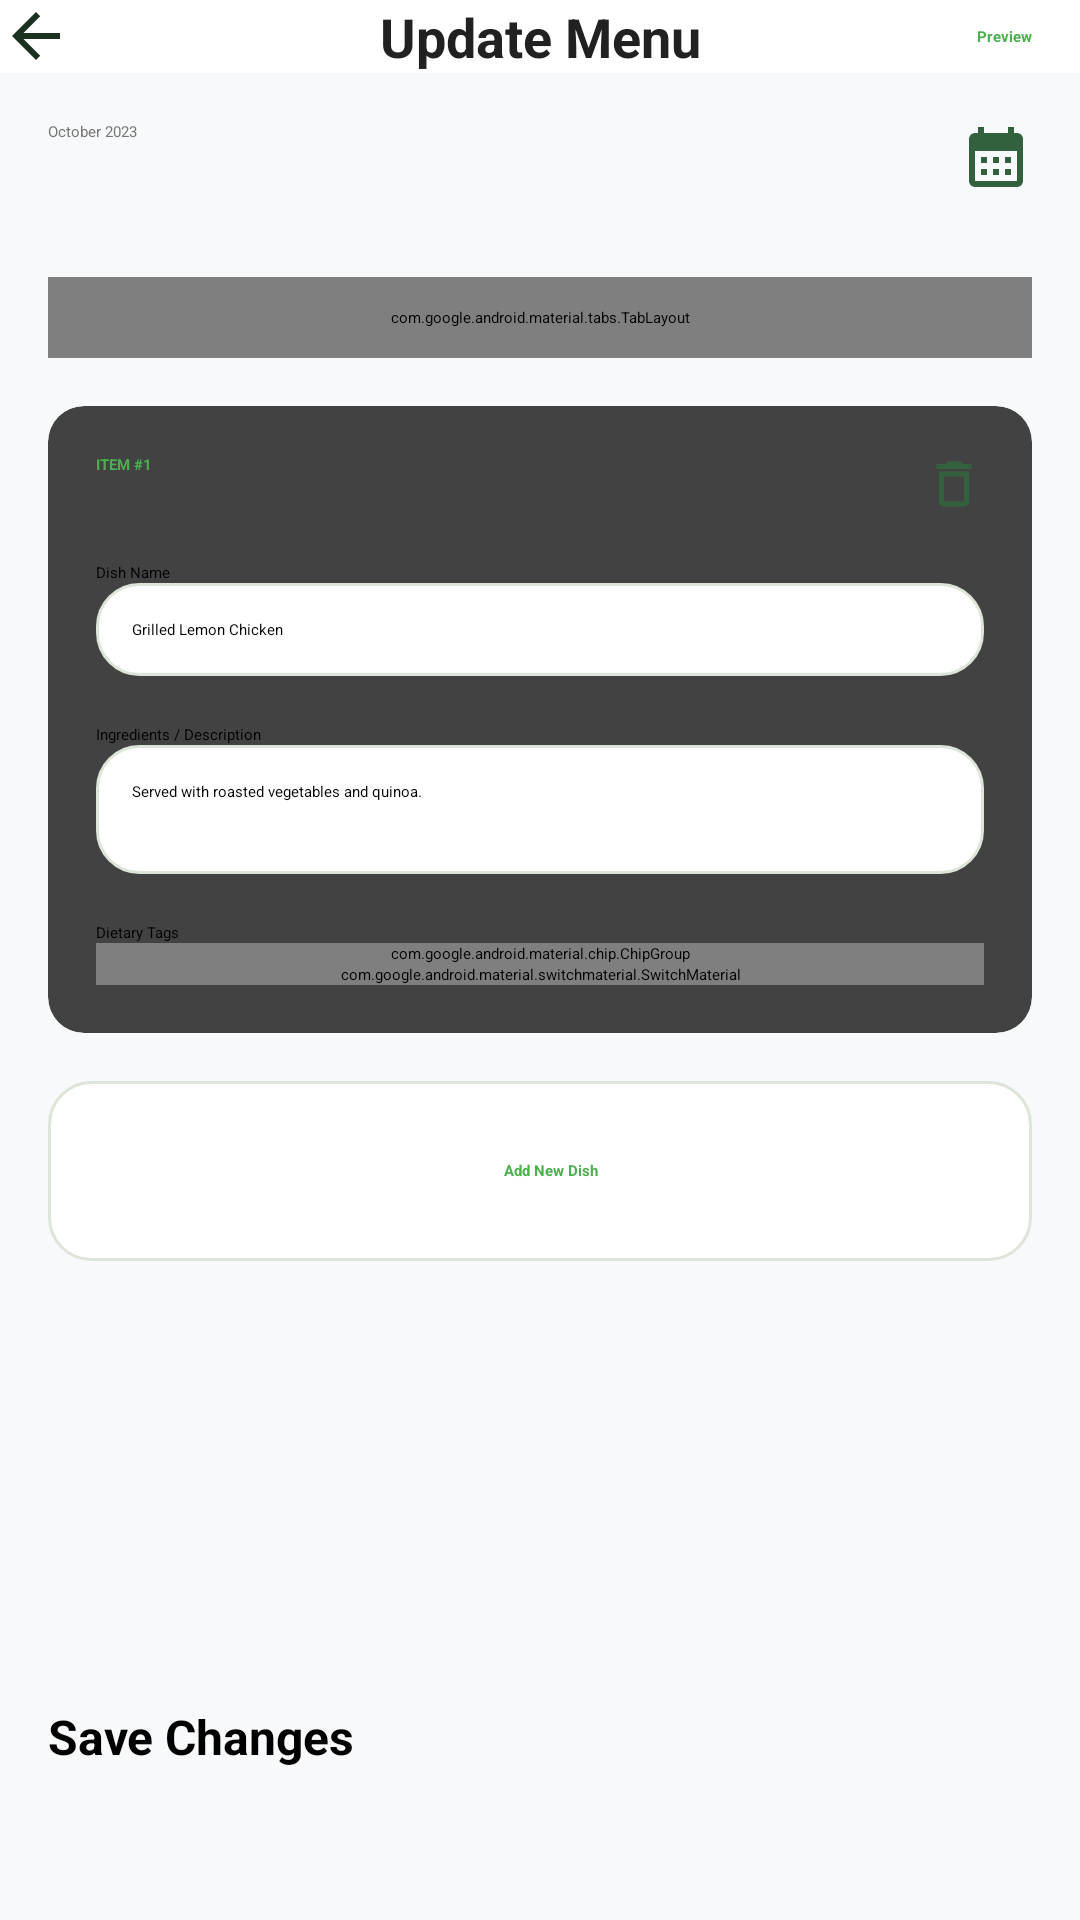

Named icons in this screenshot (1080w x 1920h) and their bounding boxes, (x1, y1, x2, y2):
back: (12, 12, 60, 60)
calender today: (969, 127, 1023, 187)
delete: (937, 462, 971, 506)
